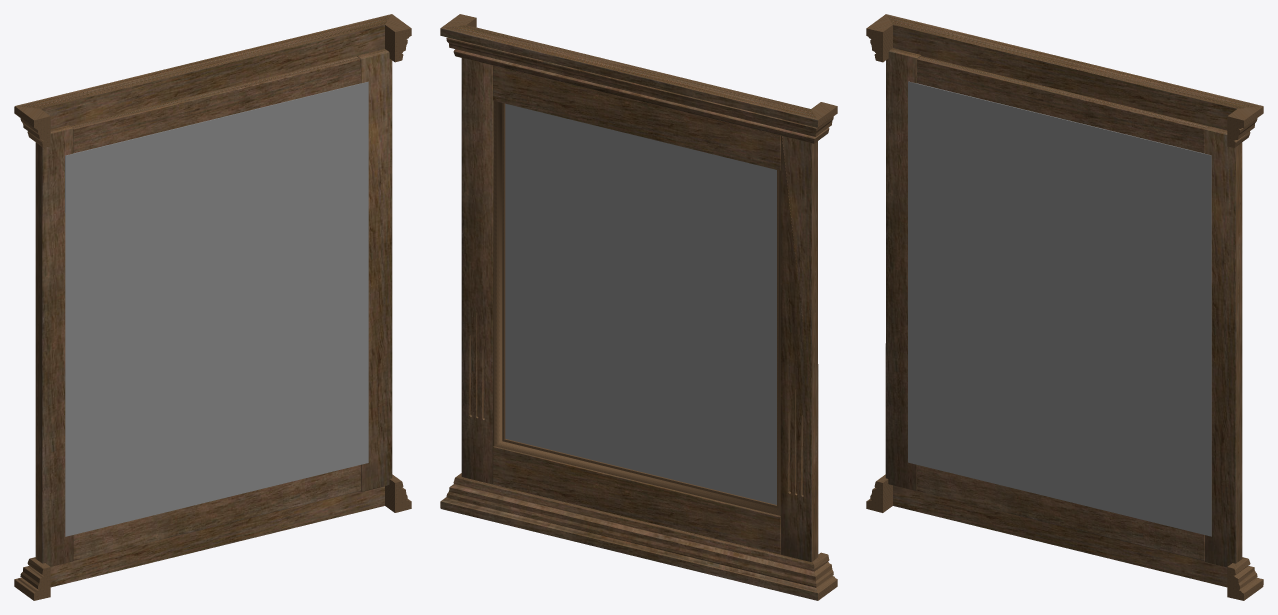
The model's file is Mirror 14.FBX.
The picture shows the model from 3 angles, left to right: view 1: azimuth 30°, elevation 25°; view 2: azimuth 150°, elevation 25°; view 3: azimuth 330°, elevation 25°; orthographic projection.
Visible parts, largest first — view 1: Mirror 14; view 2: Mirror 14; view 3: Mirror 14.
Boxes of the visible parts, <box> form: Mirror 14: <box>14,14,411,600</box>; Mirror 14: <box>440,14,837,600</box>; Mirror 14: <box>866,14,1263,600</box>.
Size of the model in its own units: 76.6 by 93.21 by 6.9.
Materials: 2 (1 with a texture image).
